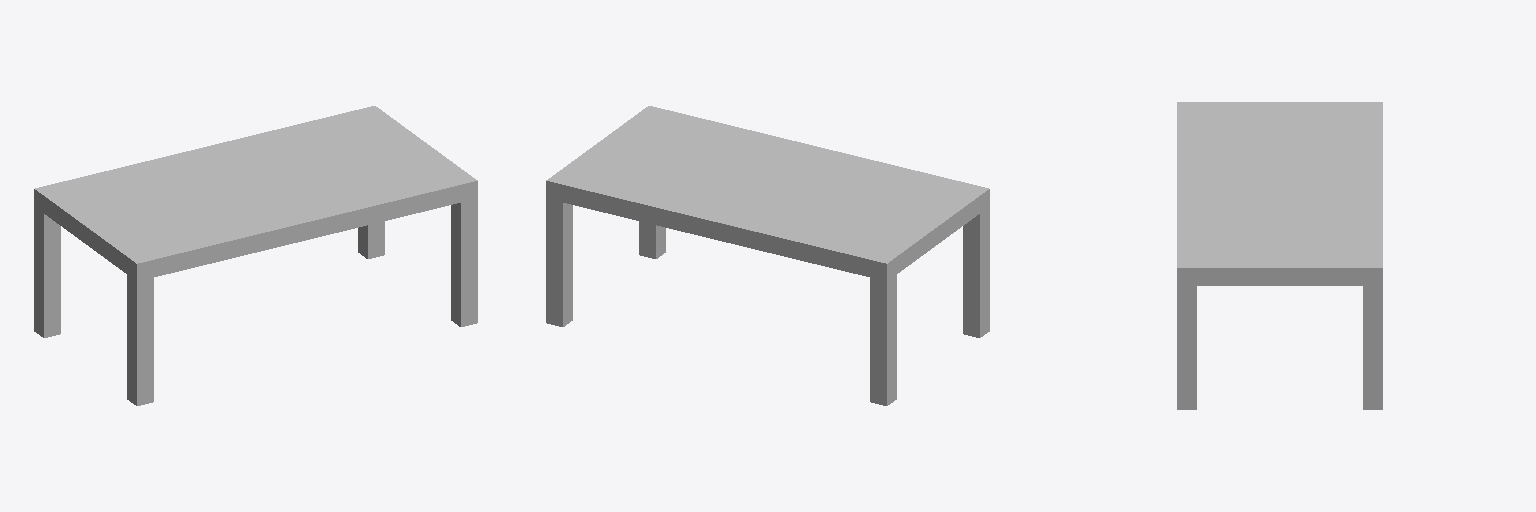
File: tableplain02.obj
The picture shows the model from 3 angles: view 1: azimuth 30°, elevation 25°; view 2: azimuth 150°, elevation 25°; view 3: azimuth 270°, elevation 25°; orthographic projection.
Visible parts, largest first — view 1: Cube_Cube.001; view 2: Cube_Cube.001; view 3: Cube_Cube.001.
Part boxes in pixels (x1,y1,x2,y2): Cube_Cube.001: (34, 106, 477, 405); Cube_Cube.001: (546, 106, 989, 405); Cube_Cube.001: (1177, 102, 1382, 409).
Size of the model in its own units: 2 by 0.8 by 1.04.